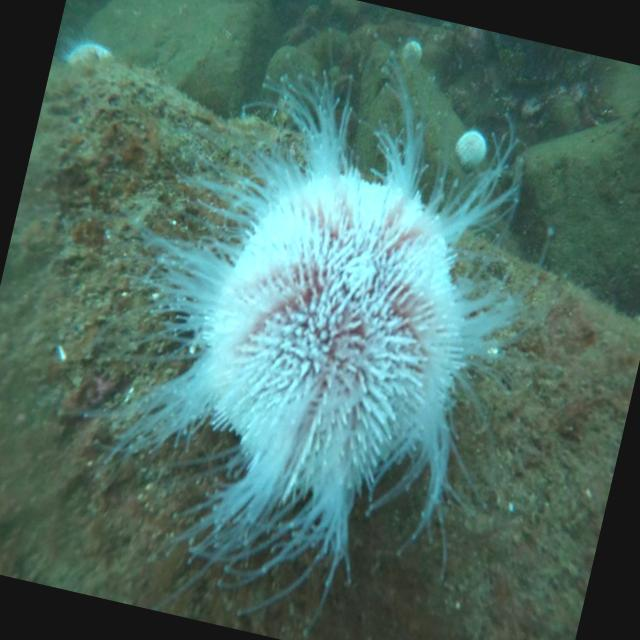Deniz Kestanesi: (40, 0, 597, 640)
